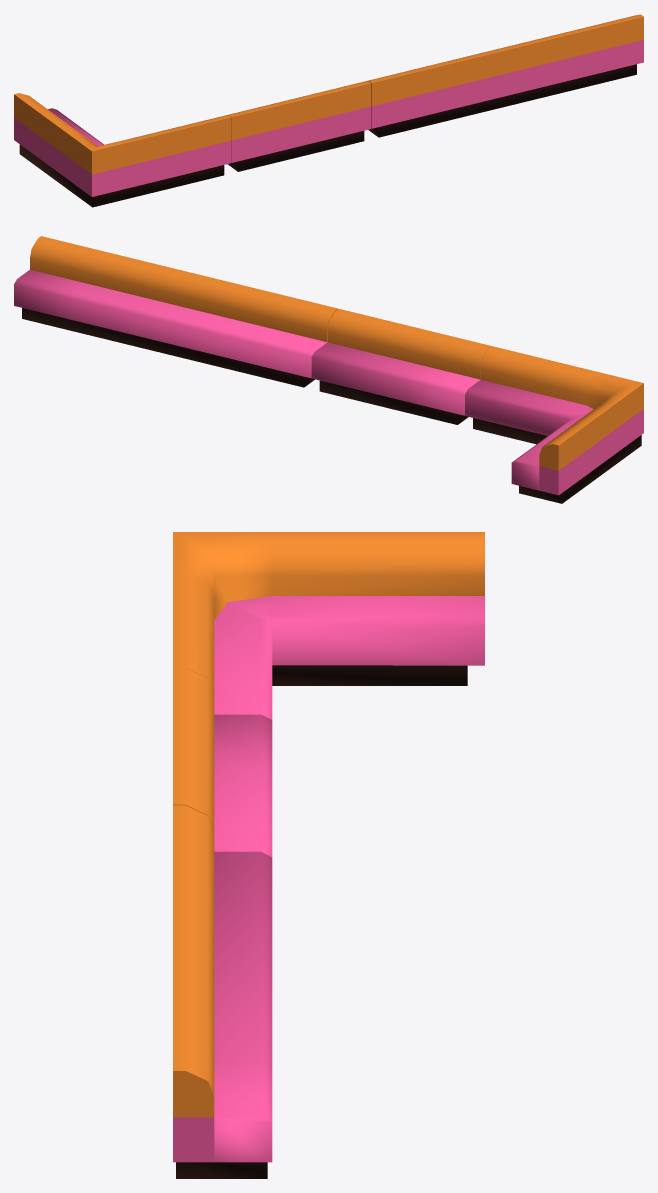
File: Sofa_00.fbx
3 renders of one model, top to bottom at view 1: azimuth 30°, elevation 25°; view 2: azimuth 150°, elevation 25°; view 3: azimuth 270°, elevation 25°, orthographic. The views are drawn at different scales.
Parts seen in each view (by area): view 1: Sofa_00; view 2: Sofa_00; view 3: Sofa_00.
Boxes of the visible parts, x1=… form: Sofa_00: x1=14, y1=14, x2=643, y2=207; Sofa_00: x1=14, y1=236, x2=643, y2=503; Sofa_00: x1=173, y1=532, x2=484, y2=1178.
Size of the model in its own units: 404 by 39.84 by 98.79.
